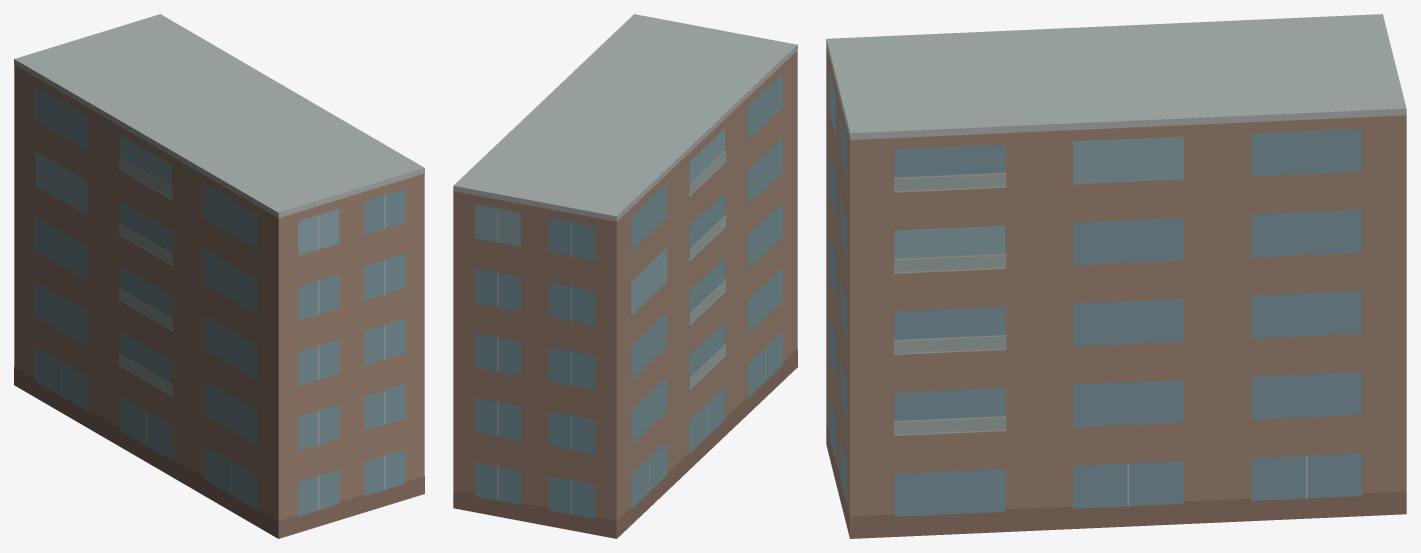
The model's file is survey-upis-32616255.glb.
3 renders of one model, left to right at view 1: azimuth 30°, elevation 25°; view 2: azimuth 150°, elevation 25°; view 3: azimuth 270°, elevation 25°, orthographic. The views are drawn at different scales.
Visible parts, largest first — view 1: survey-upis-32616255.tmp; view 2: survey-upis-32616255.tmp; view 3: survey-upis-32616255.tmp.
Boxes of the visible parts, <box> form: survey-upis-32616255.tmp: <box>14,14,424,538</box>; survey-upis-32616255.tmp: <box>453,14,797,538</box>; survey-upis-32616255.tmp: <box>826,14,1406,538</box>.
Size of the model in its own units: 9.22 by 14.6 by 18.94.
